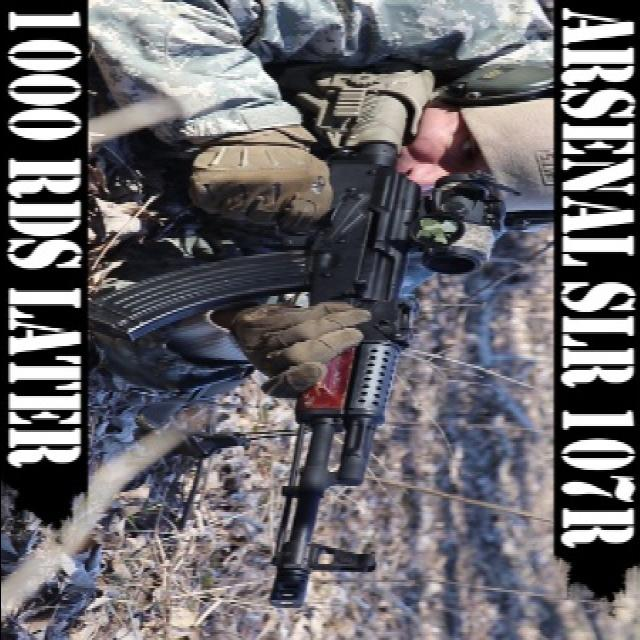rifle: (93, 63, 509, 605)
